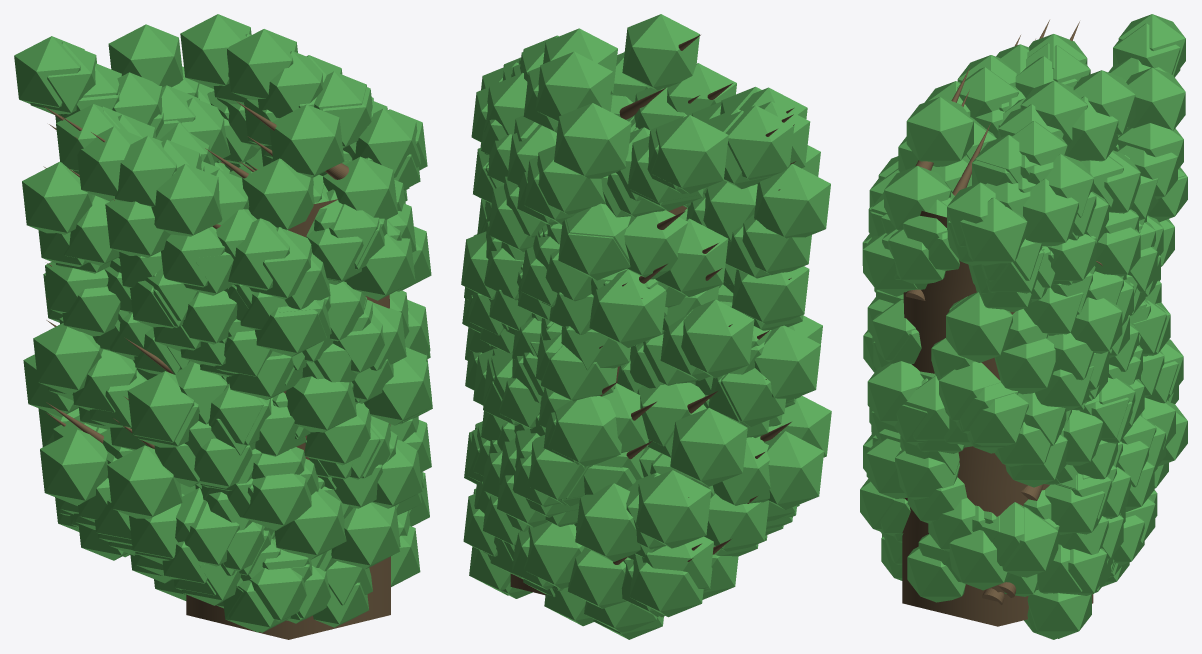
File: tree_var_6209.glb
3 views of the same model, side by side, from view 1: azimuth 30°, elevation 25°; view 2: azimuth 150°, elevation 25°; view 3: azimuth 270°, elevation 25° (orthographic). The views are drawn at different scales.
Parts seen in each view (by area): view 1: tree_var_6209; view 2: tree_var_6209; view 3: tree_var_6209.
Part boxes in pixels (x1=…): tree_var_6209: x1=14, y1=14, x2=432, y2=639; tree_var_6209: x1=461, y1=14, x2=831, y2=639; tree_var_6209: x1=860, y1=14, x2=1187, y2=639.
Bounding box in the file's own units: 3.6 × 5.33 × 2.97.
